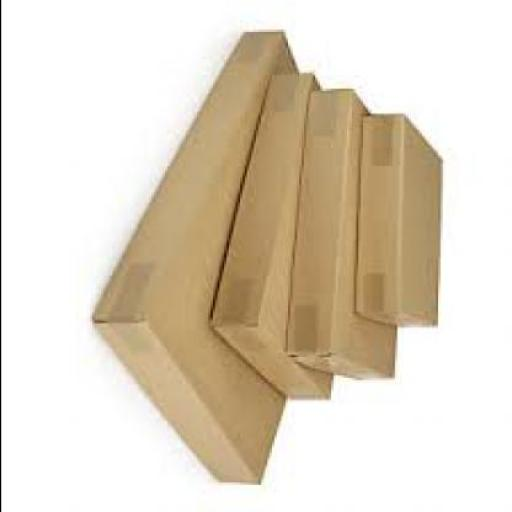cardboard: (91, 34, 300, 489), (212, 75, 334, 400), (288, 89, 398, 385), (358, 116, 441, 330)
